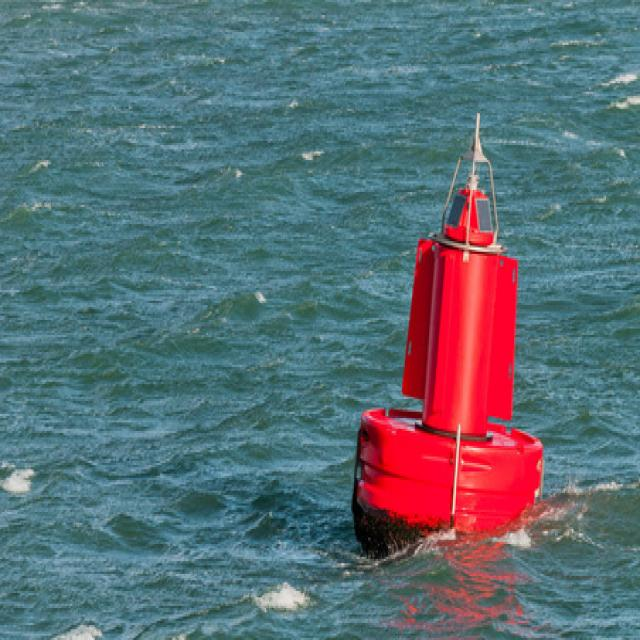buoy: (348, 107, 548, 552)
